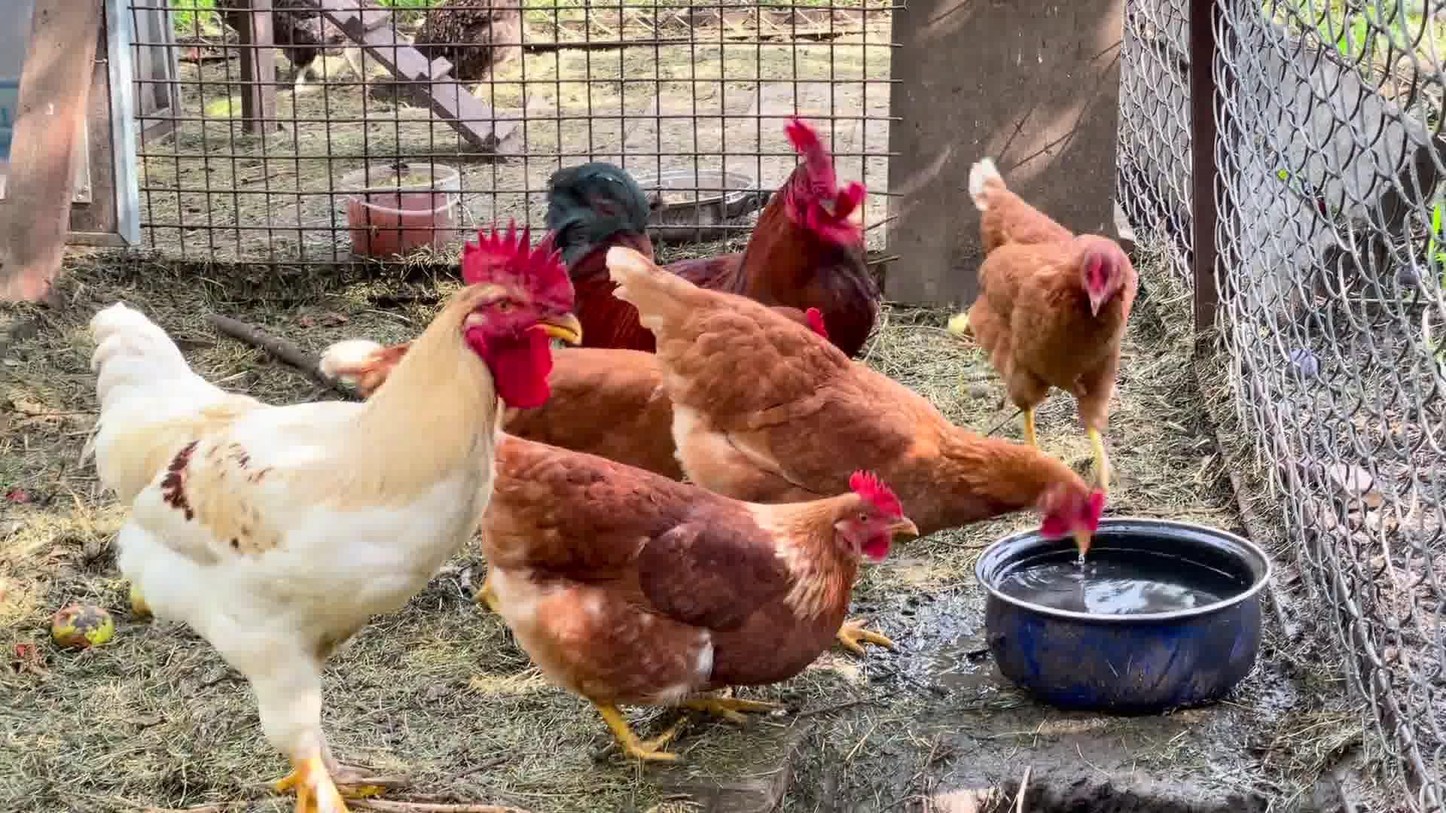Normal: (70, 219, 581, 813), (603, 241, 1108, 569), (496, 429, 921, 770), (652, 307, 1105, 578), (582, 130, 900, 396), (961, 162, 1156, 473)
